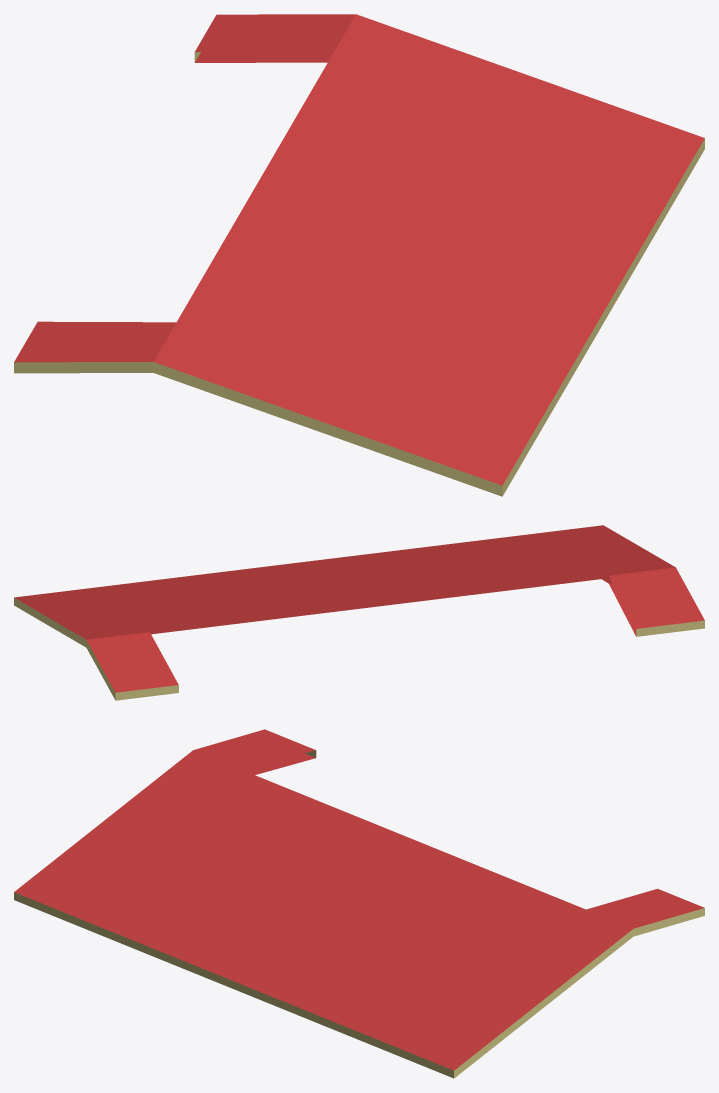
3 views of the same model, one above another, from view 1: azimuth 30°, elevation 25°; view 2: azimuth 150°, elevation 25°; view 3: azimuth 270°, elevation 25° (orthographic). The views are drawn at different scales.
Size of the model in its own units: 7.8 by 7.89 by 0.894.
